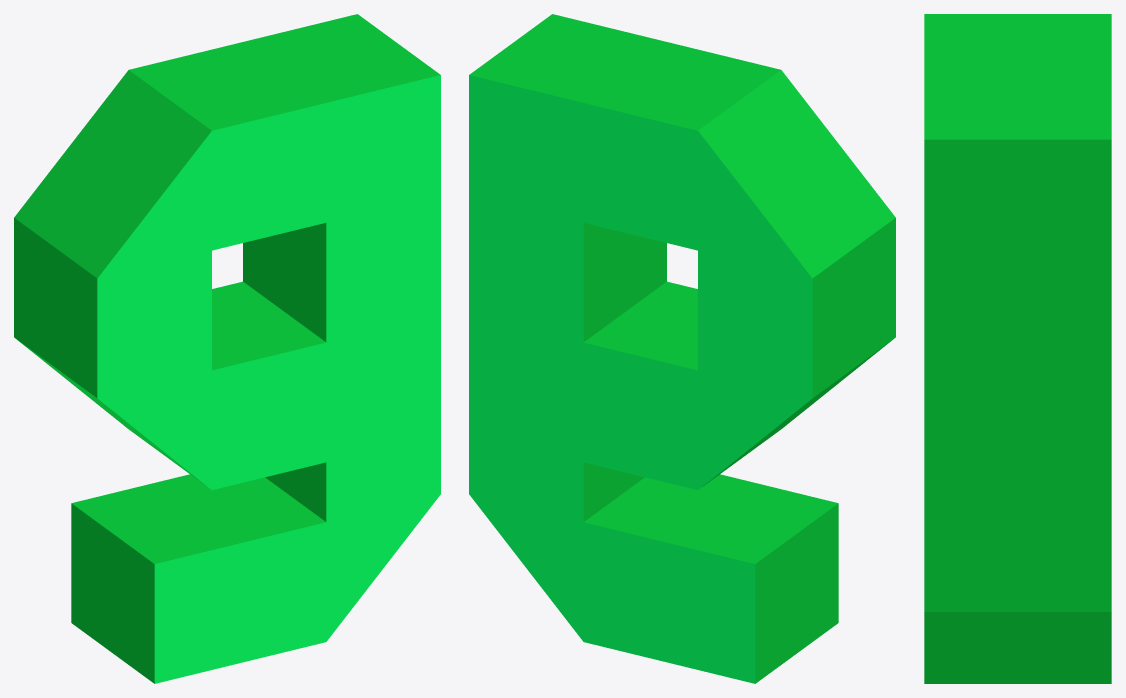
File: G_DeltaBlock_Green.glb
3 views of the same model, side by side, from view 1: azimuth 30°, elevation 25°; view 2: azimuth 150°, elevation 25°; view 3: azimuth 270°, elevation 25° (orthographic). The views are drawn at different scales.
Visible parts, largest first — view 1: g_DeltaBlock_Green; view 2: g_DeltaBlock_Green; view 3: g_DeltaBlock_Green.
Boxes of the visible parts, x1,y1,x2,y2 form: g_DeltaBlock_Green: (14, 14, 440, 683); g_DeltaBlock_Green: (469, 14, 895, 683); g_DeltaBlock_Green: (924, 14, 1111, 683).
Size of what is drawn, in the model's own units: 0.1071 by 0.1607 by 0.045.
Materials: 2 (2 with a texture image).
